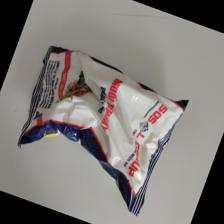Salt: (13, 41, 197, 224)
